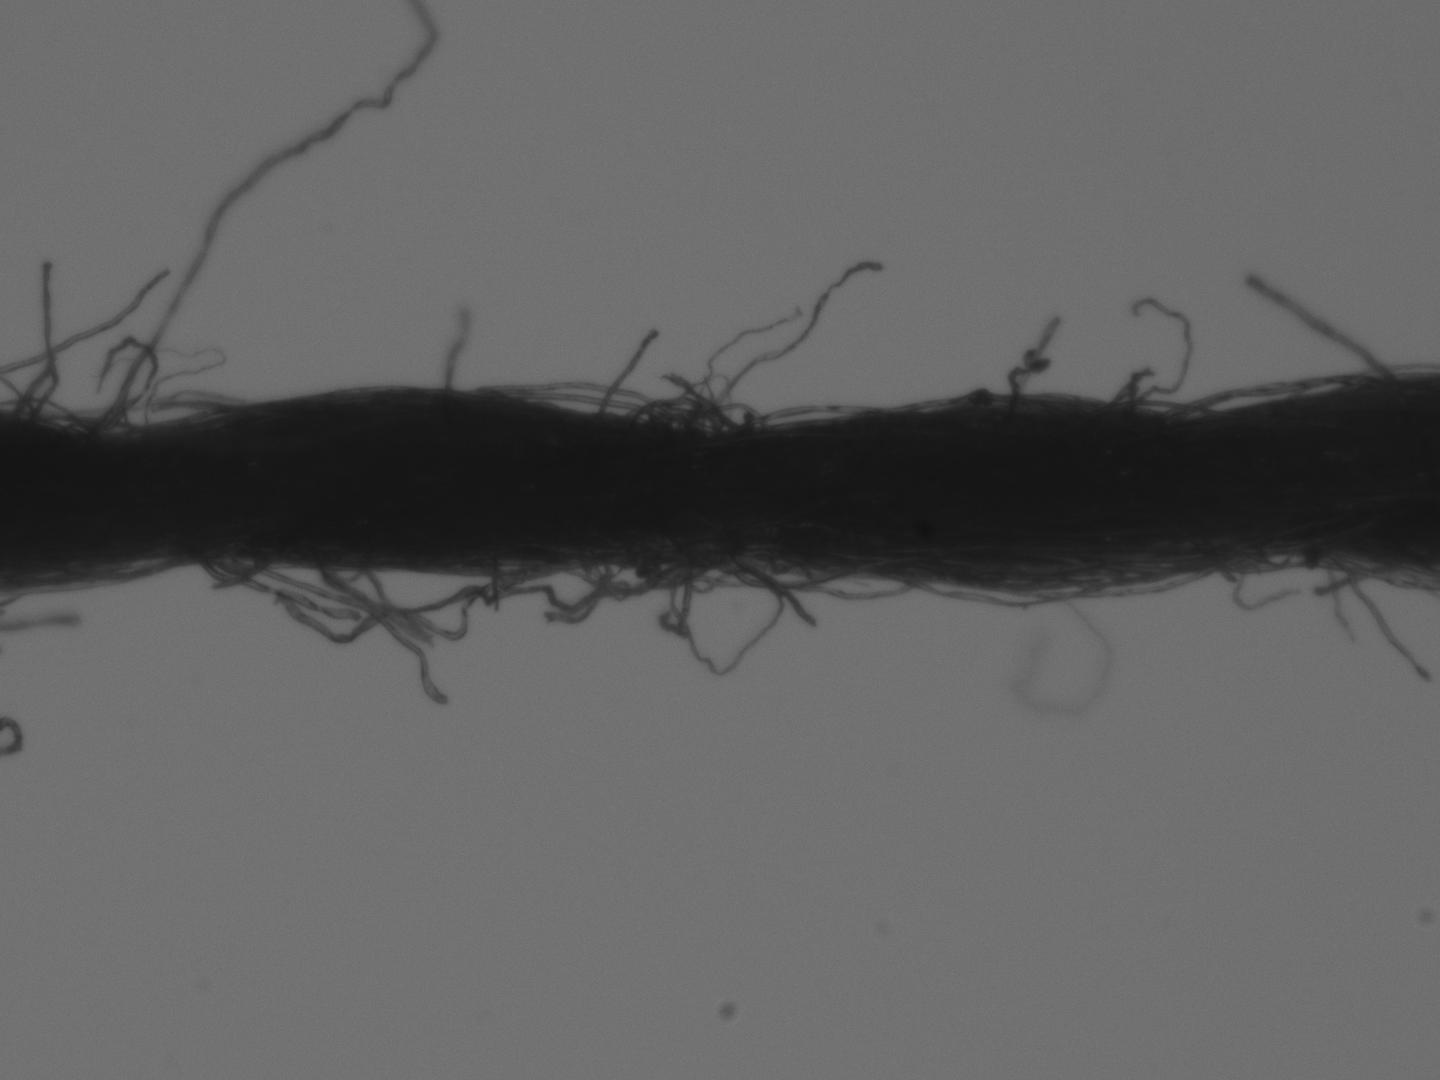loop_fiber: (306, 548, 664, 641), (664, 552, 791, 676), (881, 571, 1128, 613), (1175, 371, 1379, 419), (619, 386, 765, 445), (739, 396, 879, 434), (1121, 395, 1217, 423), (183, 550, 257, 584)
protruding_fiber: (1331, 551, 1432, 684), (588, 315, 664, 421)
